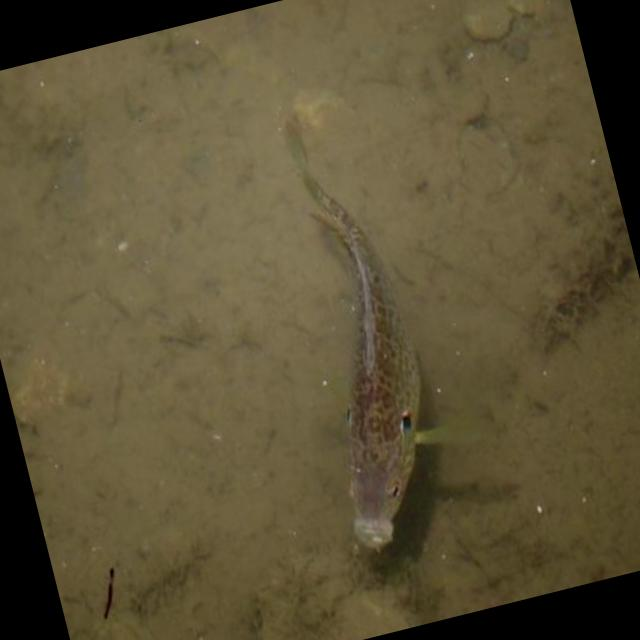Gunes Levregi: (252, 90, 506, 566)
